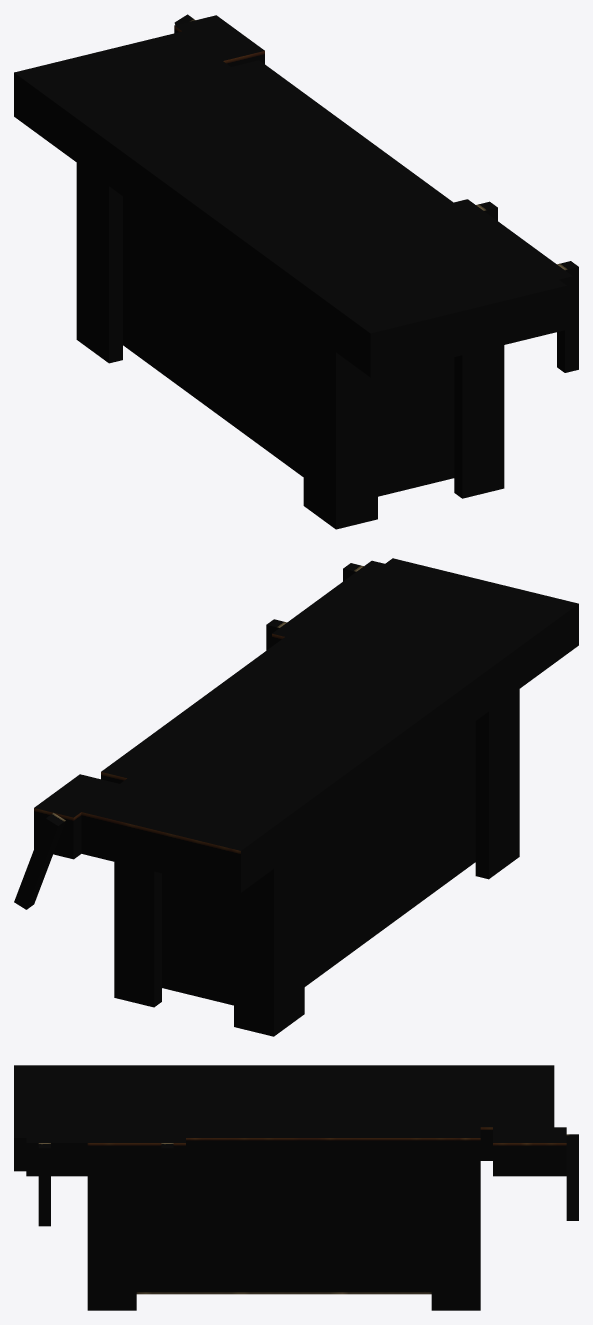
The model's file is polycrafting_table.obj.
3 views of the same model, one above another, from view 1: azimuth 30°, elevation 25°; view 2: azimuth 150°, elevation 25°; view 3: azimuth 270°, elevation 25° (orthographic). The views are drawn at different scales.
Visible parts, largest first — view 1: Crafting_Table_Tri_Cube.001; view 2: Crafting_Table_Tri_Cube.001; view 3: Crafting_Table_Tri_Cube.001.
Part boxes in pixels (<box>): Crafting_Table_Tri_Cube.001: <box>14,14,578,529</box>; Crafting_Table_Tri_Cube.001: <box>14,558,578,1036</box>; Crafting_Table_Tri_Cube.001: <box>14,1065,578,1310</box>.
Size of the model in its own units: 1 by 1 by 2.88.
